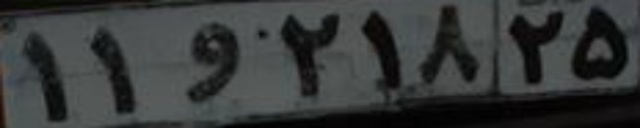1: (82, 24, 137, 113), (17, 29, 66, 123), (357, 10, 403, 87)
2: (277, 12, 345, 98), (504, 9, 566, 84)
5: (572, 5, 629, 80)
8: (418, 4, 484, 82)
vav: (175, 21, 246, 103)
